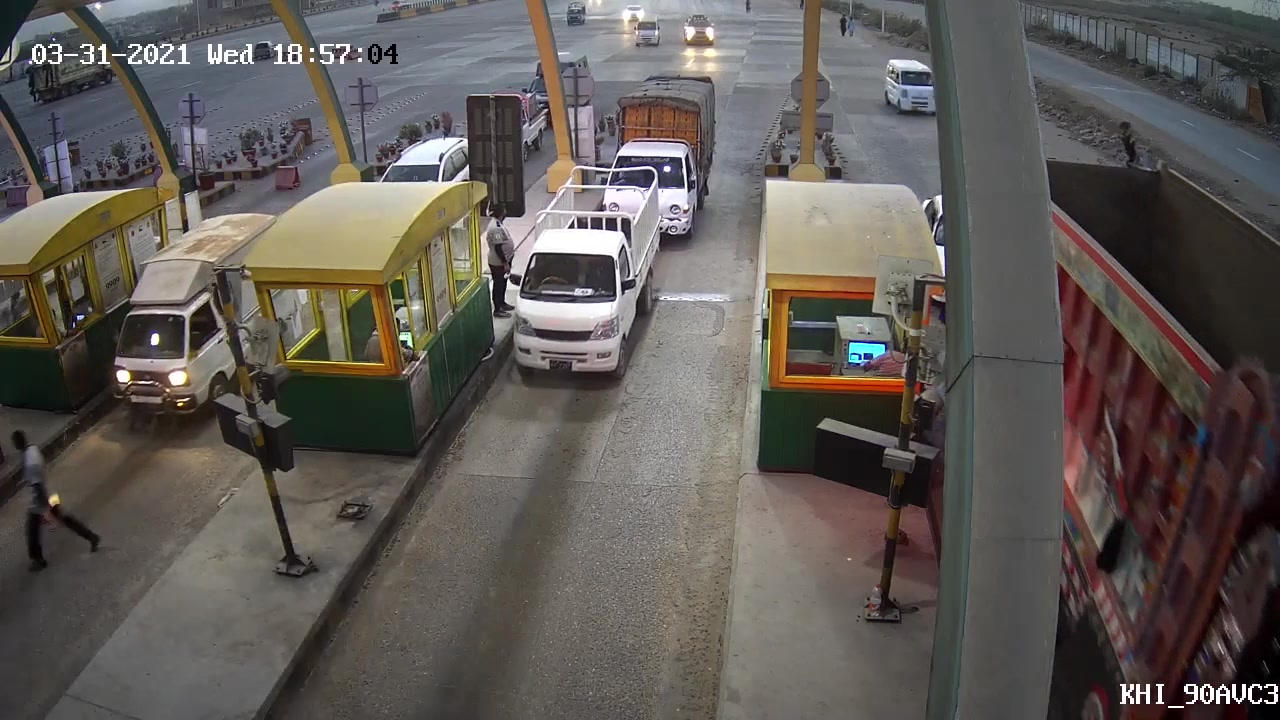F2: (500, 178, 667, 376)
